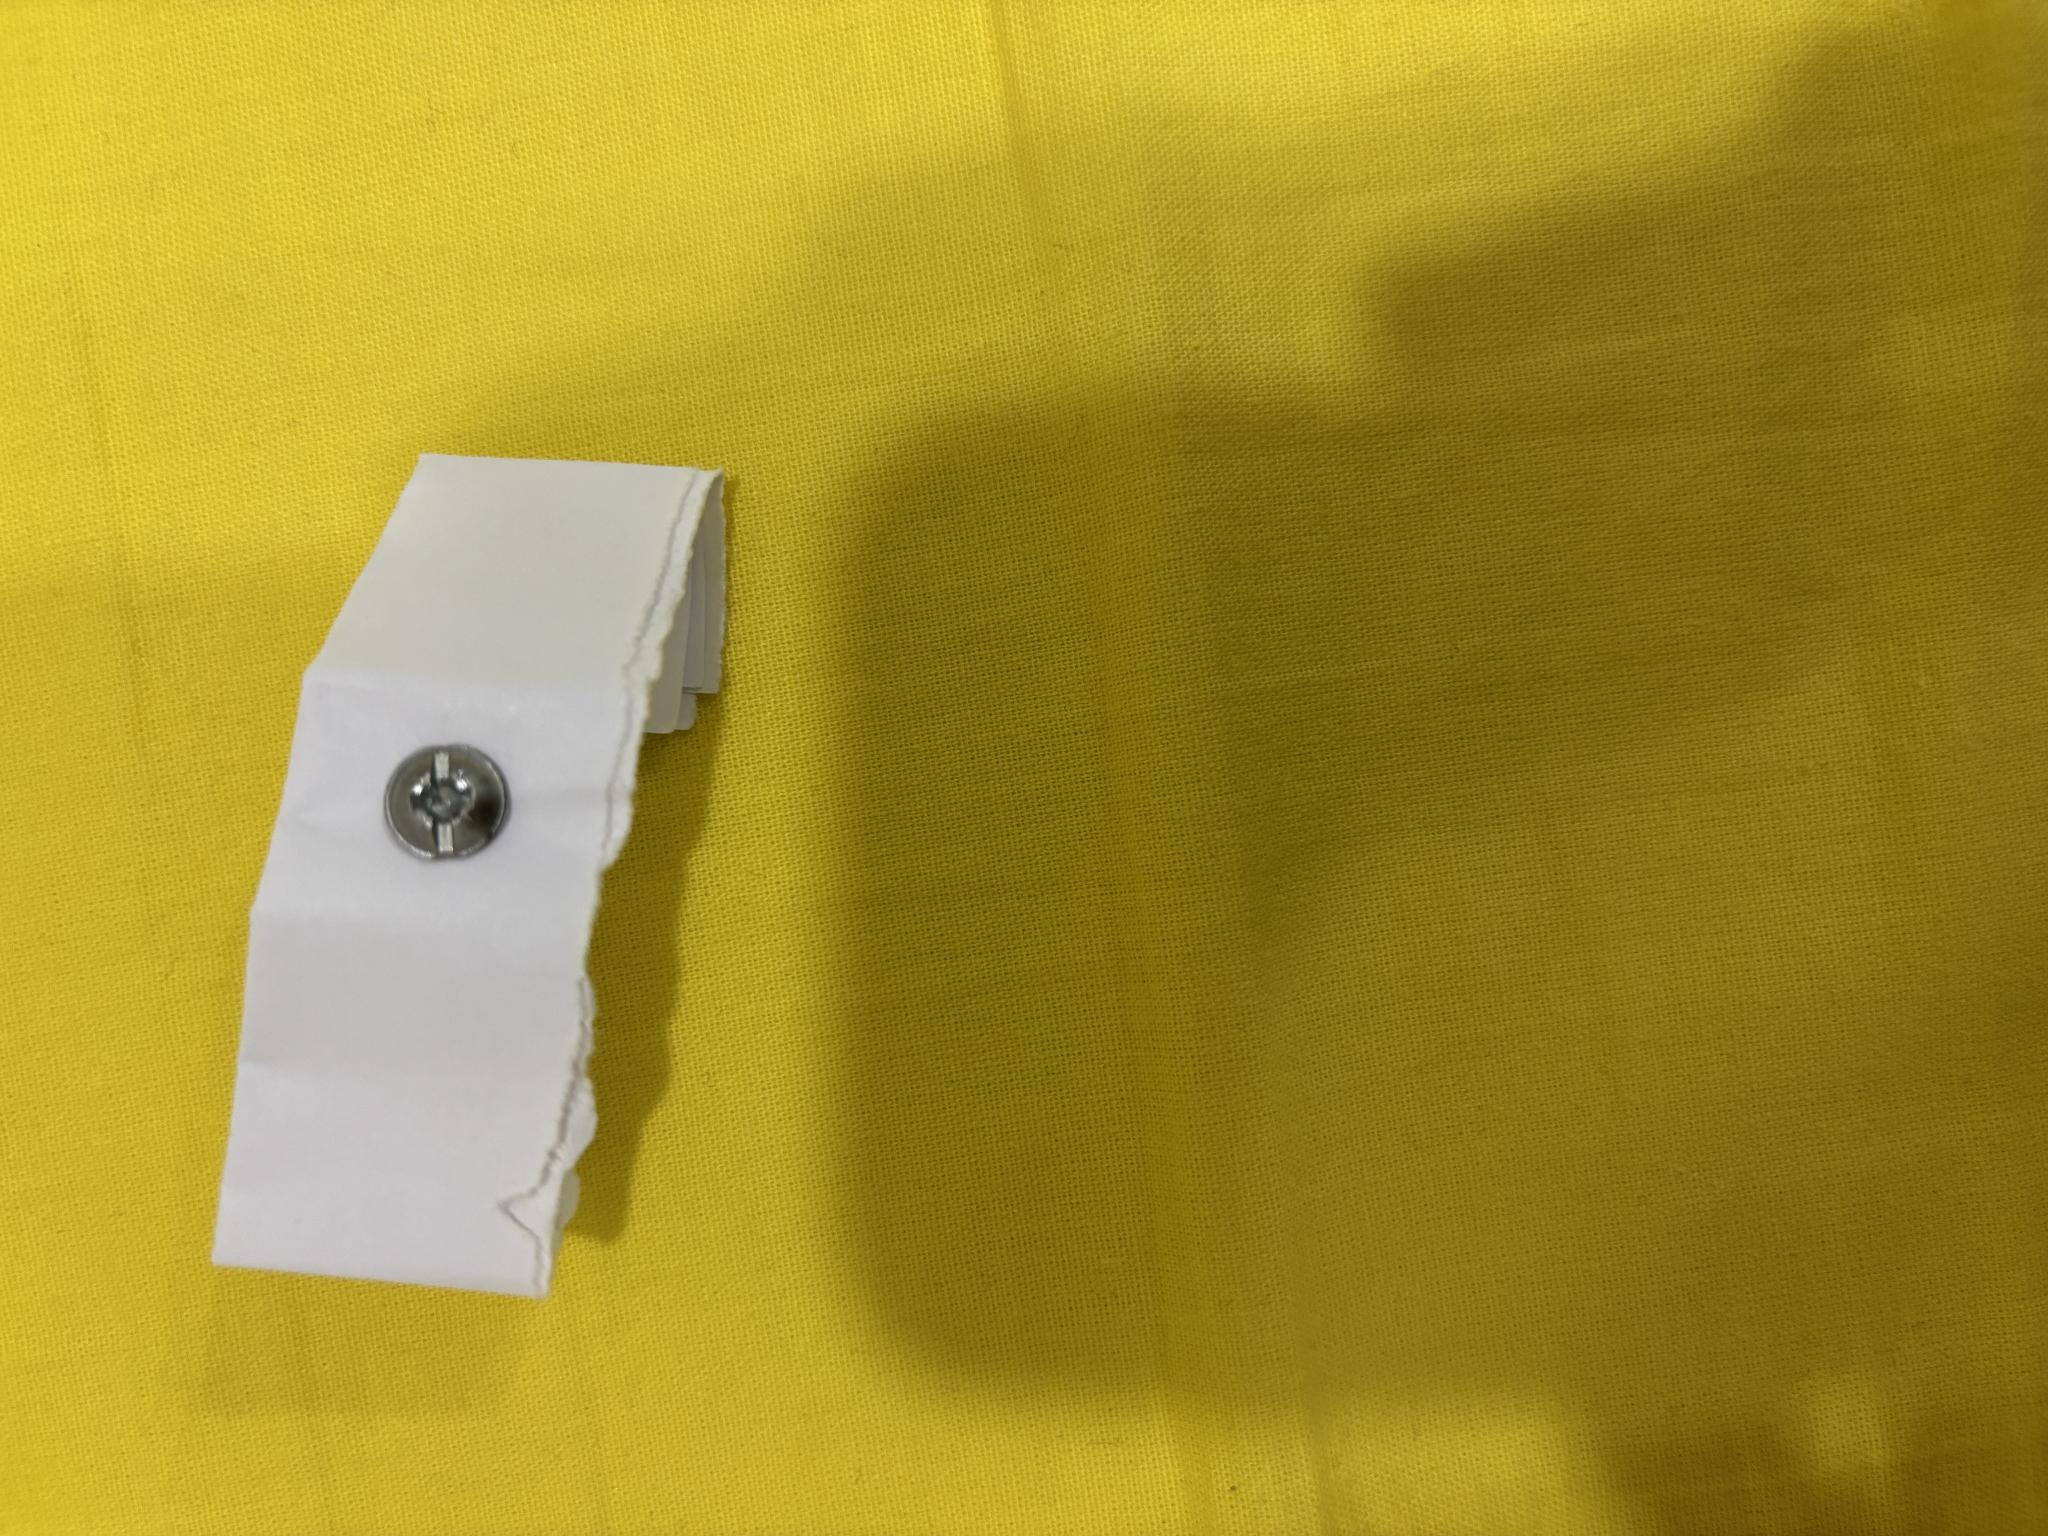PZ: (677, 386, 790, 507)
